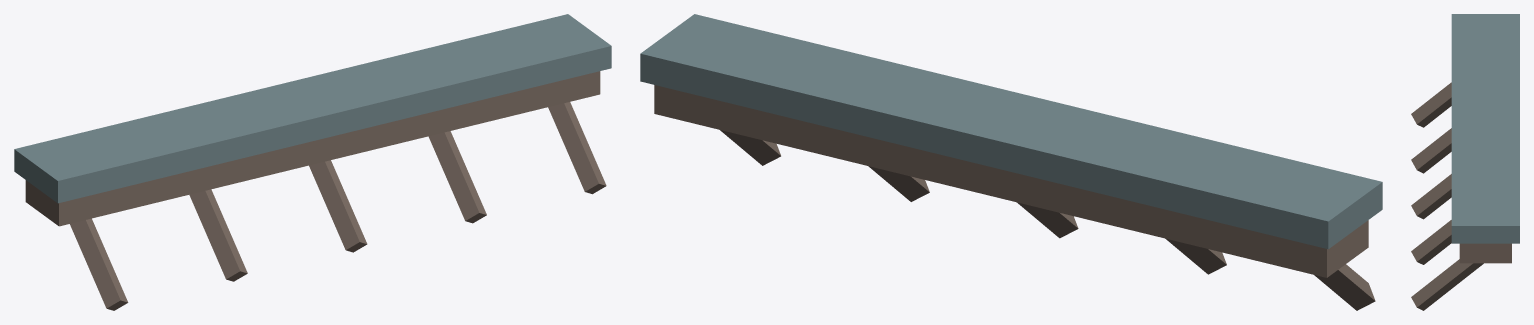
The model's file is beiral_teal.glb.
The picture shows the model from 3 angles, left to right: view 1: azimuth 30°, elevation 25°; view 2: azimuth 150°, elevation 25°; view 3: azimuth 270°, elevation 25°; orthographic projection. The views are drawn at different scales.
Parts seen in each view (by area): view 1: beiral_teal_part_001, beiral_teal_part_000, beiral_teal_part_003, beiral_teal_part_002, beiral_teal_part_004, beiral_teal_part_006, beiral_teal_part_005; view 2: beiral_teal_part_001, beiral_teal_part_000, beiral_teal_part_002, beiral_teal_part_006, beiral_teal_part_003, beiral_teal_part_005, beiral_teal_part_004; view 3: beiral_teal_part_001, beiral_teal_part_006, beiral_teal_part_000, beiral_teal_part_002, beiral_teal_part_004, beiral_teal_part_005, beiral_teal_part_003.
Boxes of the visible parts, x1,y1,x2,y2 form: beiral_teal_part_001: [14, 14, 611, 203]; beiral_teal_part_000: [25, 71, 600, 226]; beiral_teal_part_003: [189, 189, 247, 281]; beiral_teal_part_002: [70, 218, 128, 310]; beiral_teal_part_004: [309, 160, 367, 252]; beiral_teal_part_006: [548, 102, 606, 194]; beiral_teal_part_005: [428, 131, 486, 223]; beiral_teal_part_001: [640, 14, 1382, 249]; beiral_teal_part_000: [654, 85, 1368, 277]; beiral_teal_part_002: [1314, 264, 1375, 310]; beiral_teal_part_006: [720, 130, 780, 165]; beiral_teal_part_003: [1165, 238, 1226, 274]; beiral_teal_part_005: [868, 166, 929, 201]; beiral_teal_part_004: [1017, 202, 1078, 238]; beiral_teal_part_001: [1451, 14, 1519, 243]; beiral_teal_part_006: [1411, 259, 1483, 310]; beiral_teal_part_000: [1459, 243, 1511, 263]; beiral_teal_part_002: [1411, 82, 1451, 127]; beiral_teal_part_004: [1411, 174, 1451, 219]; beiral_teal_part_005: [1411, 220, 1451, 264]; beiral_teal_part_003: [1411, 128, 1451, 173].
Bounding box in the file's own units: 4.4 × 0.959 × 0.9554.
